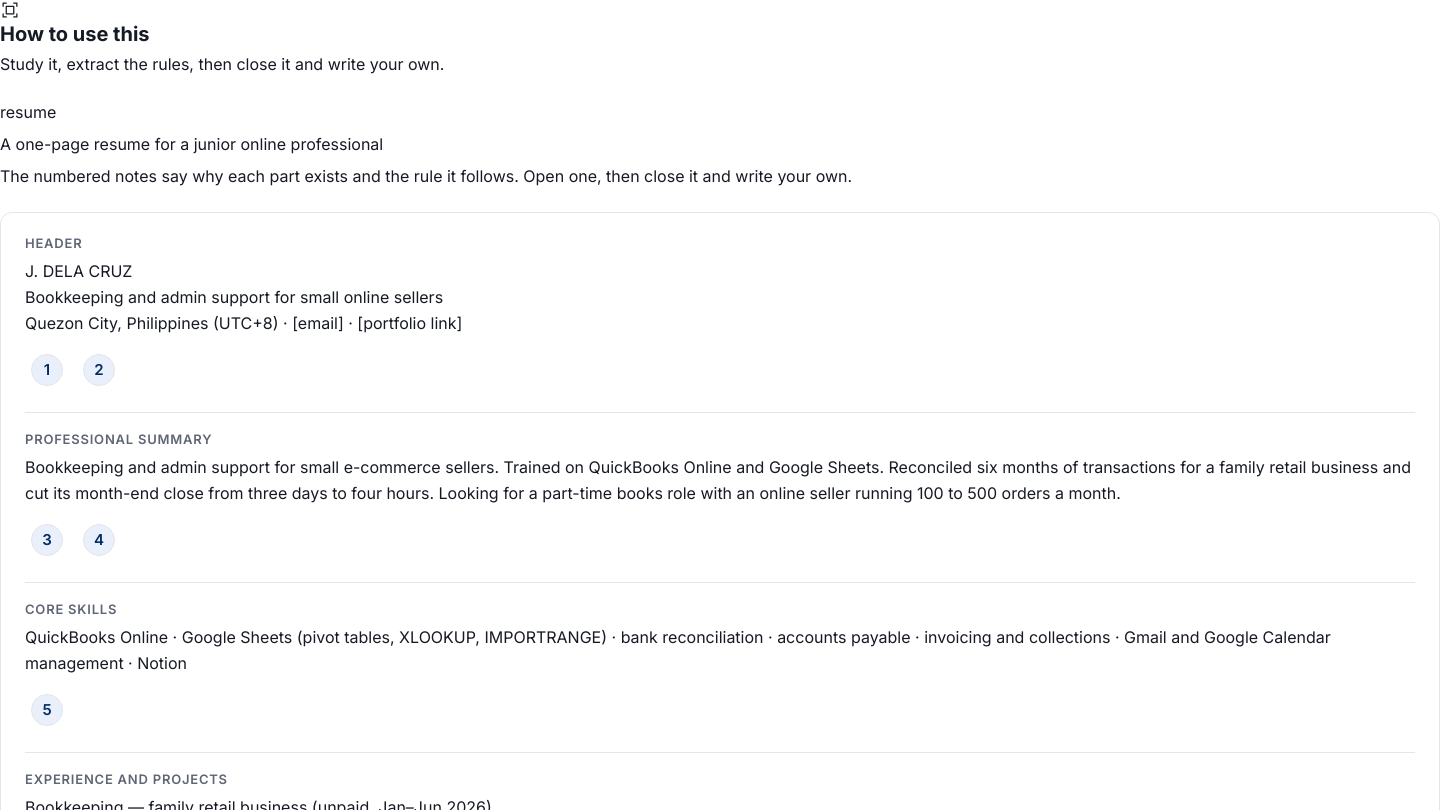
Scenario: Annotated › opens a dialog with the why and the rule, and closes on Escape
Click the button named "Note 1: One way to reach you" at [47, 370], box [25,348,69,392]
(page scrolled)
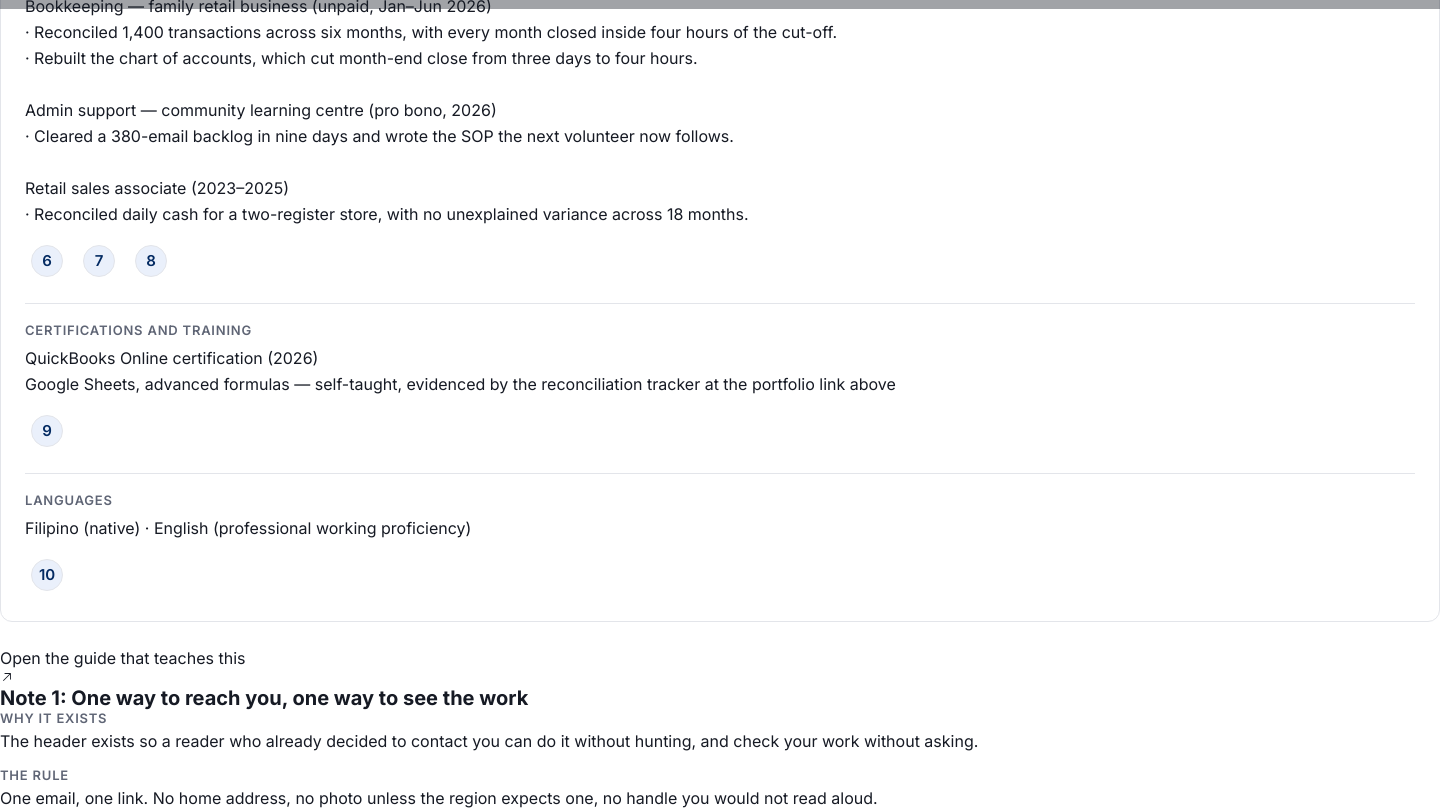
Check: the text "The header exists so a reader" is shown, box [0,731,978,751]
Check: the text "One email, one link" is shown, box [0,788,878,808]
Press Escape
(page scrolled)
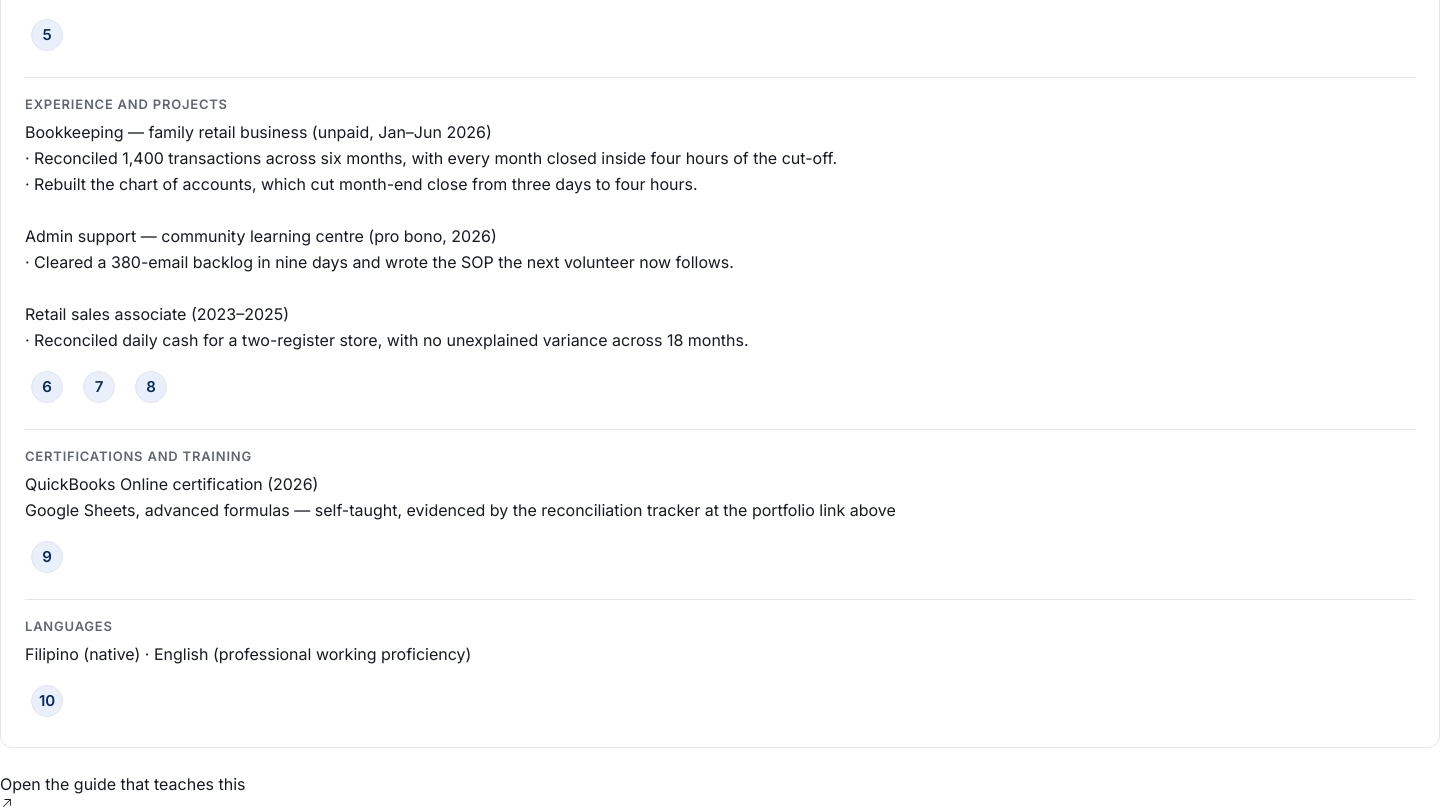
Check: the dialog is gone
